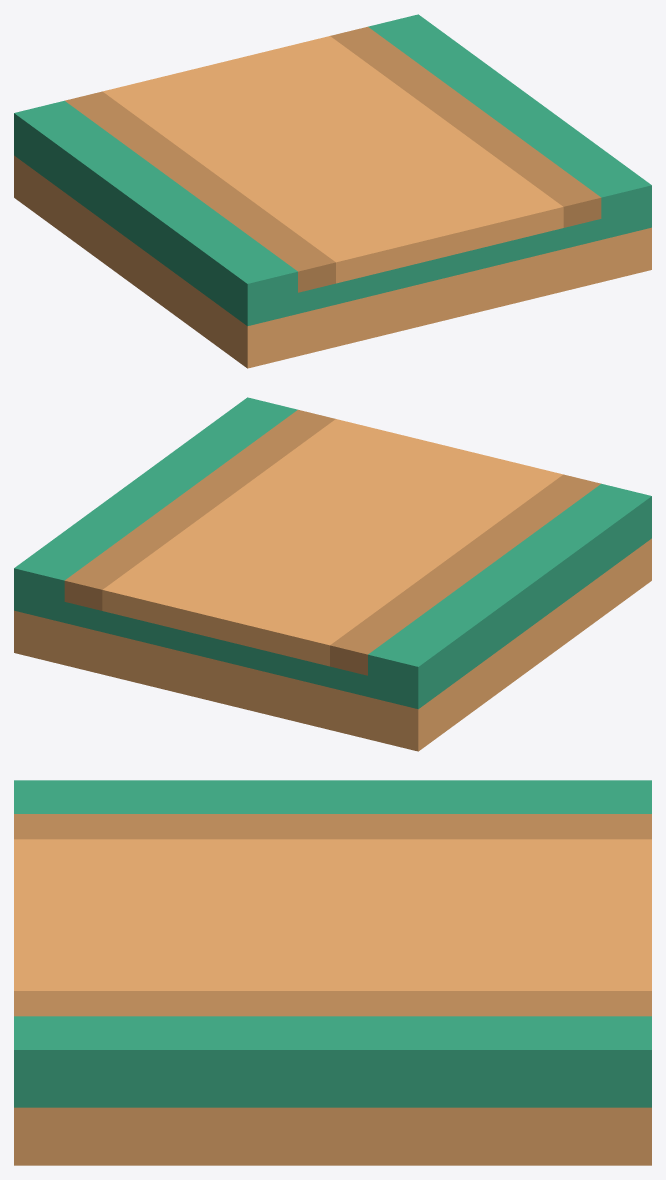
File: tile_straight(+).fbx
3 renders of one model, top to bottom at view 1: azimuth 30°, elevation 25°; view 2: azimuth 150°, elevation 25°; view 3: azimuth 270°, elevation 25°, orthographic. The views are drawn at different scales.
Parts seen in each view (by area): view 1: Mesh_1; view 2: Mesh_1; view 3: Mesh_1.
Part boxes in pixels (x1,y1,x2,y2): Mesh_1: [14, 14, 651, 368]; Mesh_1: [14, 397, 651, 751]; Mesh_1: [14, 780, 651, 1165].
Size of the model in its own units: 100 by 20 by 100.
